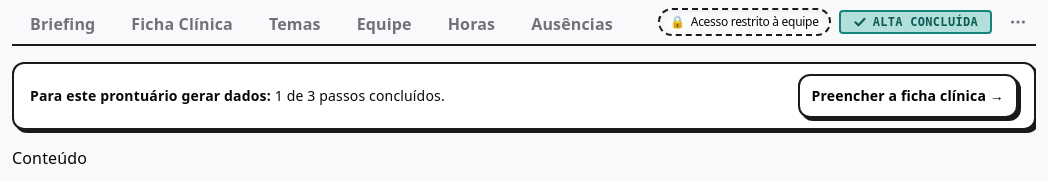
Test: PacienteLayout - ciclo de vida do prontuário (D65) › paciente com alta exibe o selo Alta Concluída e o gatilho vira Desfazer
Expected: the text "Alta Concluída" is shown, [873,14,978,30]
Step 1. Click the button named "Ações do prontuário" → click(1018, 22), box [1000,4,1036,40]
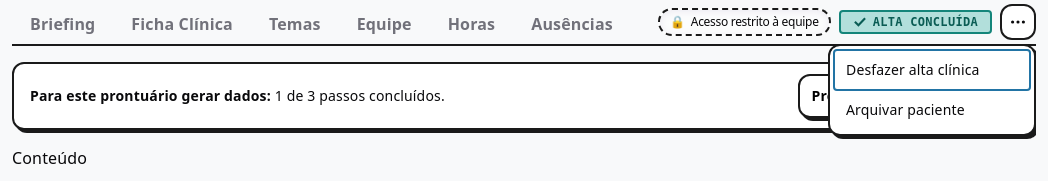
Expected: the menu is shown, [828,44,1036,136]
Expected: the menu item "Desfazer alta clínica" is shown, [834,50,1030,90]
